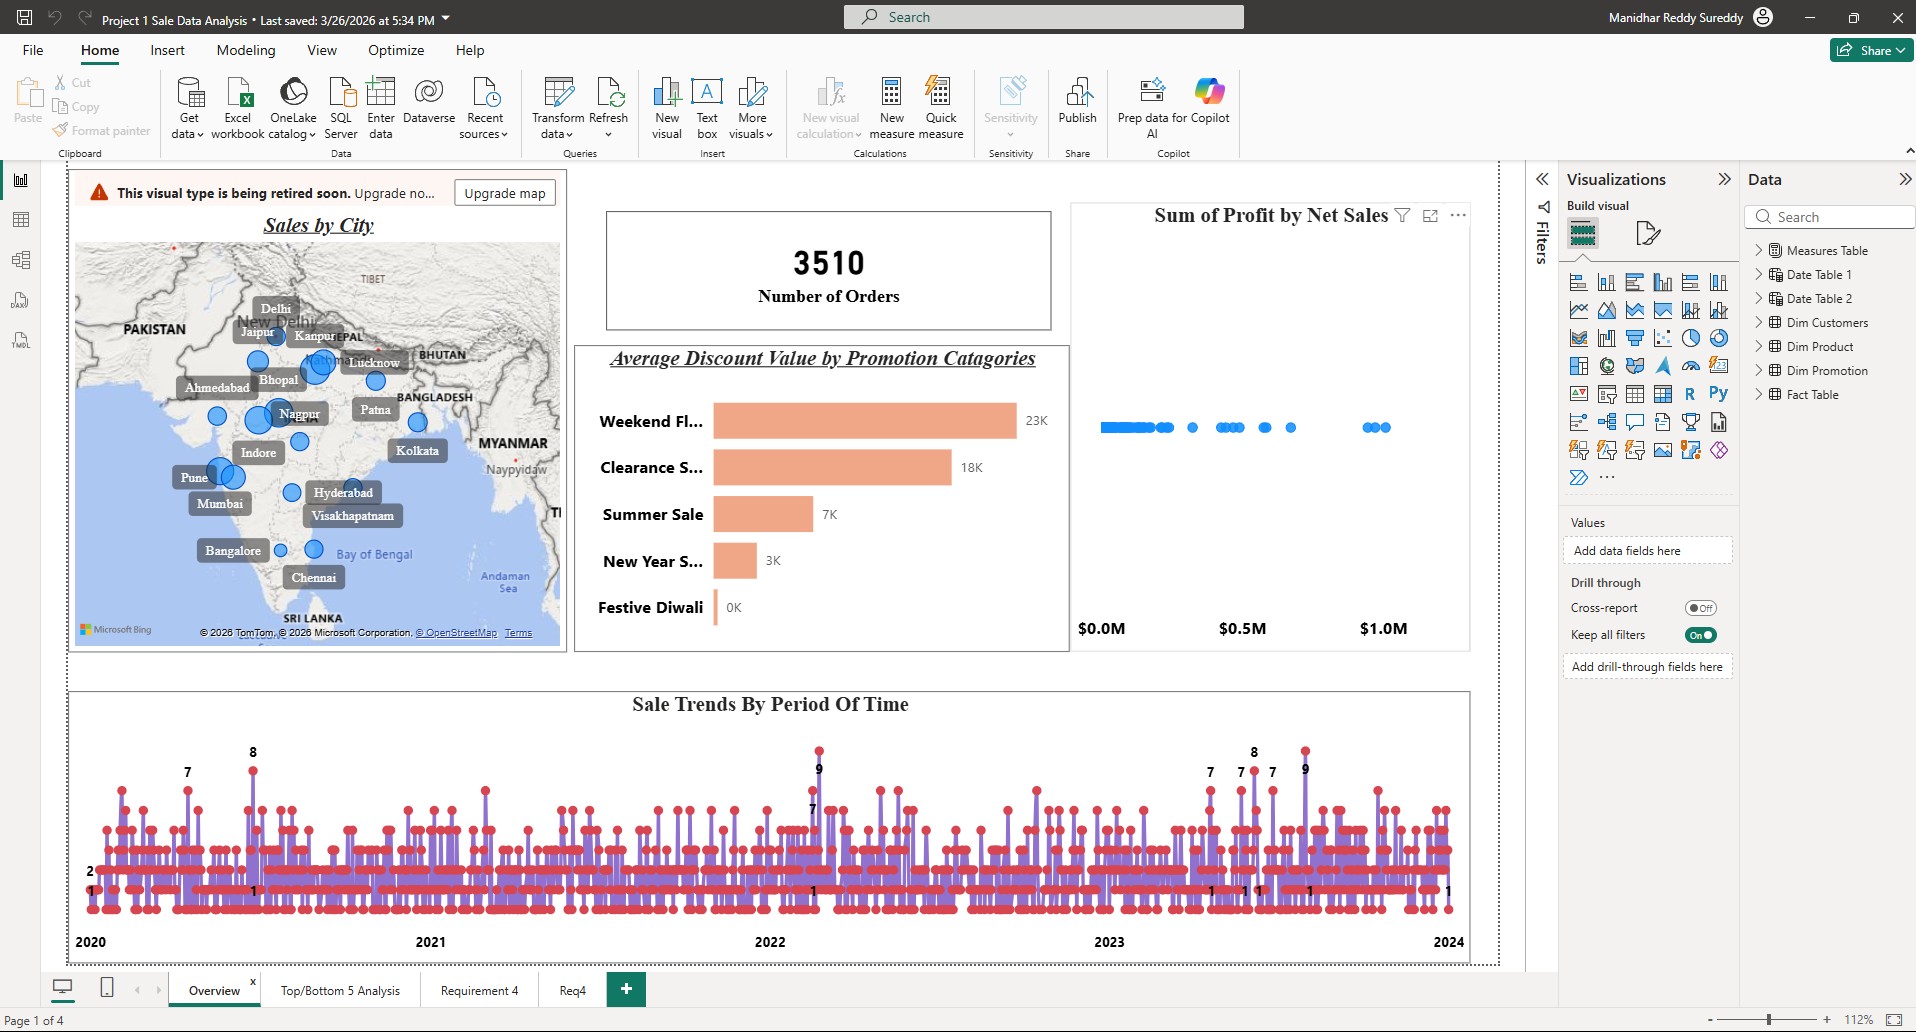

Layout of this report page (visuals, bound fields, positions):
{"tool":"powerbi","page":{"name":"Overview","canvas":[1280,720],"ordinal":0},"visuals":[{"type":"lineChart","title":"Sale Trends By Period Of Time","fields":{"Y":["CountNonNull(Fact Table.Net Sales)"],"Category":["Fact Table.Date (dd/mm/yyyy).Variation.Date Hierarchy.Year"]},"box":[0,475.5,1256.4,244.5],"z":0},{"type":"scatterChart","fields":{"X":["Sum(Fact Table.Profit)"],"Category":["Fact Table.Net Sales"]},"box":[897.3,37.6,359.1,403],"z":1000},{"type":"barChart","title":"Average Discount Value by Promotion Catagories","fields":{"Y":["Avg(Fact Table.Discount Value)"],"Category":["Dim Promotion.Promotion Name"]},"box":[453.1,165.7,444.2,274.9],"z":2000},{"type":"map","title":"Sales by City","fields":{"Category":["Dim Customers.City"],"Size":["CountNonNull(Fact Table.Net Sales)"]},"box":[0,8.1,446.9,432.5],"z":3000},{"type":"card","fields":{"Values":["Count(Fact Table.Order Id)"]},"box":[481.8,45.7,399.4,106.6],"z":4000}]}

Visuals, with their boxes on the page's 1280x720 design canvas (x1, y1, x2, y2). These are canvas units, not pixel positions in the 1916x1032 screenshot, which may show the page scaled, cropped or inside an application window:
"Sale Trends By Period Of Time" lineChart: bbox(0, 476, 1256, 720)
scatterChart - Sum(Fact Table.Profit) x Fact Table.Net Sales: bbox(897, 38, 1256, 441)
"Average Discount Value by Promotion Catagories" barChart: bbox(453, 166, 897, 441)
"Sales by City" map: bbox(0, 8, 447, 441)
card - Count(Fact Table.Order Id): bbox(482, 46, 881, 152)
